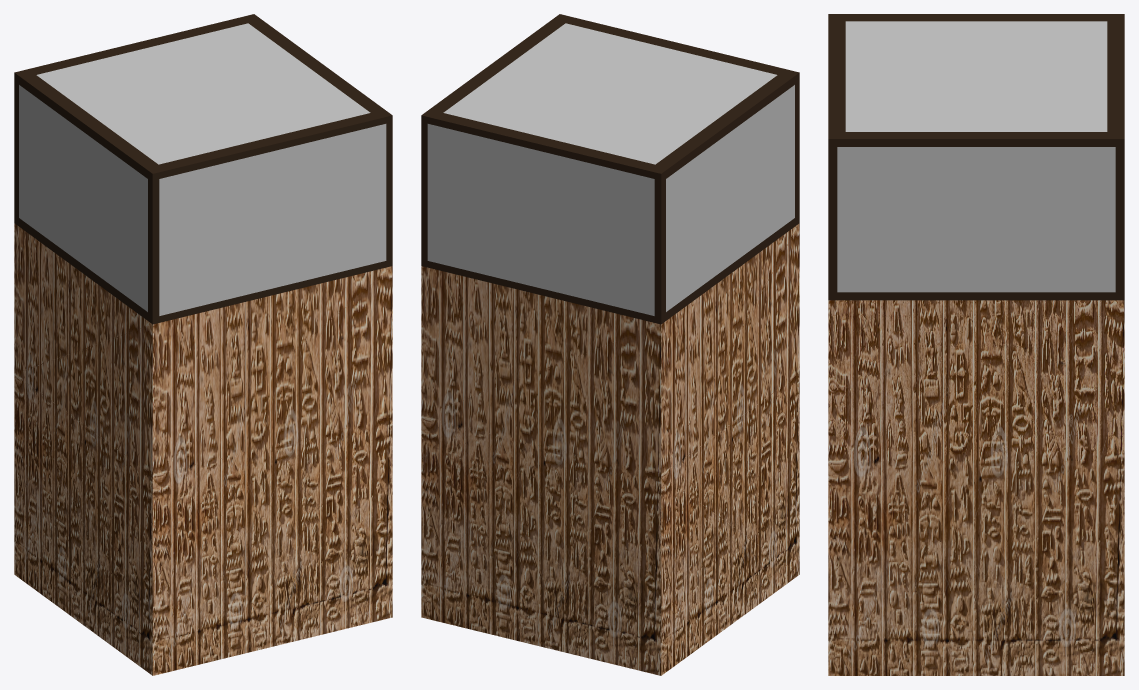
File: column_in_lava.FBX
3 renders of one model, left to right at view 1: azimuth 30°, elevation 25°; view 2: azimuth 150°, elevation 25°; view 3: azimuth 270°, elevation 25°, orthographic. The views are drawn at different scales.
Visible parts, largest first — view 1: Box001; view 2: Box001; view 3: Box001.
Part boxes in pixels (x1,y1,x2,y2): Box001: [14, 14, 392, 675]; Box001: [421, 14, 799, 675]; Box001: [828, 14, 1124, 675].
Bounding box in the file's own units: 50 × 100 × 50.
